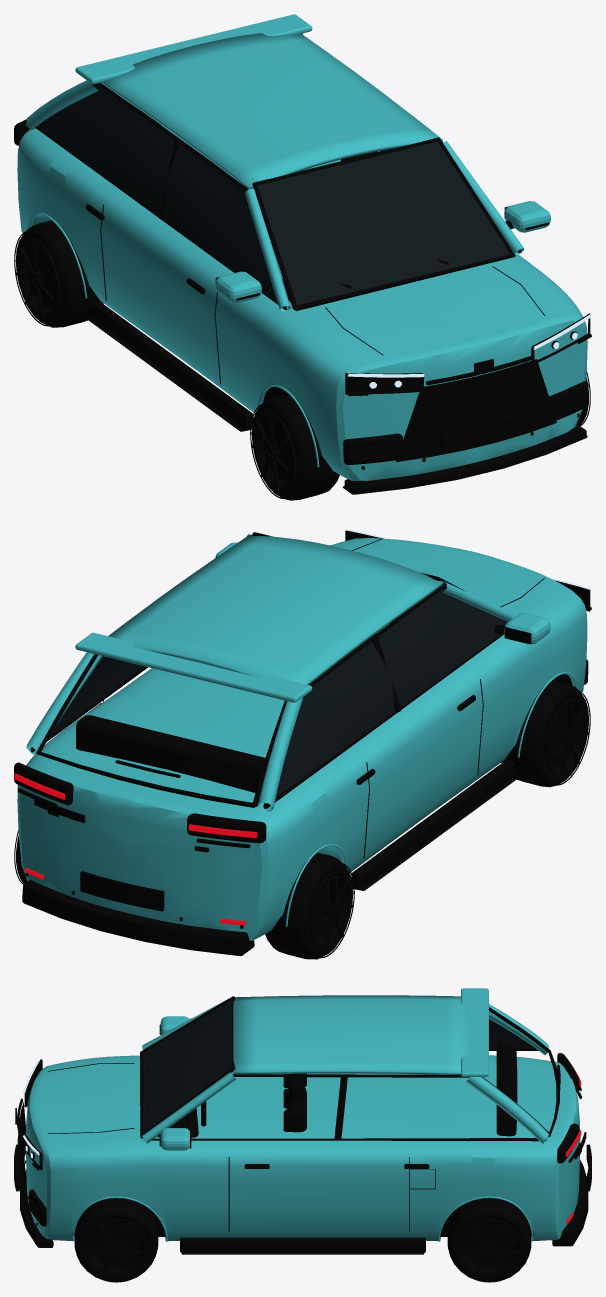
File: axia.glb
3 renders of one model, top to bottom at view 1: azimuth 30°, elevation 25°; view 2: azimuth 150°, elevation 25°; view 3: azimuth 270°, elevation 25°, orthographic. The views are drawn at different scales.
Parts seen in each view (by area): view 1: chassis.001__Automotive clearcoat, chassis.001__Solar glass, chassis.001__Vehicle detail atlas, wheel_FL.001__Vehicle detail atlas, wheel_RL.001__Vehicle detail atlas, chassis.001__White LED optics; view 2: chassis.001__Automotive clearcoat, chassis.001__Vehicle detail atlas, chassis.001__Solar glass, wheel_RL.001__Vehicle detail atlas, wheel_FL.001__Vehicle detail atlas, chassis.001__Red LED optics; view 3: chassis.001__Automotive clearcoat, chassis.001__Vehicle detail atlas, chassis.001__Solar glass, wheel_RR.001__Vehicle detail atlas, wheel_FR.001__Vehicle detail atlas.
Boxes of the visible parts, box(x1,y1,x2,y2) form: chassis.001__Automotive clearcoat: box(17, 14, 587, 480); chassis.001__Solar glass: box(38, 85, 510, 308); chassis.001__Vehicle detail atlas: box(14, 82, 590, 494); wheel_FL.001__Vehicle detail atlas: box(250, 393, 339, 500); wheel_RL.001__Vehicle detail atlas: box(14, 220, 103, 327); chassis.001__White LED optics: box(347, 314, 591, 388); chassis.001__Automotive clearcoat: box(17, 534, 587, 940); chassis.001__Vehicle detail atlas: box(14, 530, 590, 955); chassis.001__Solar glass: box(50, 589, 507, 806); wheel_RL.001__Vehicle detail atlas: box(265, 852, 354, 959); wheel_FL.001__Vehicle detail atlas: box(501, 680, 590, 787); chassis.001__Red LED optics: box(14, 773, 257, 925); chassis.001__Automotive clearcoat: box(25, 988, 580, 1241); chassis.001__Vehicle detail atlas: box(14, 996, 591, 1254); chassis.001__Solar glass: box(143, 999, 534, 1133); wheel_RR.001__Vehicle detail atlas: box(447, 1198, 531, 1282); wheel_FR.001__Vehicle detail atlas: box(74, 1198, 158, 1282).
Size of the model in its own units: 1.99 by 1.52 by 3.91.
8 materials, 6 textured.
